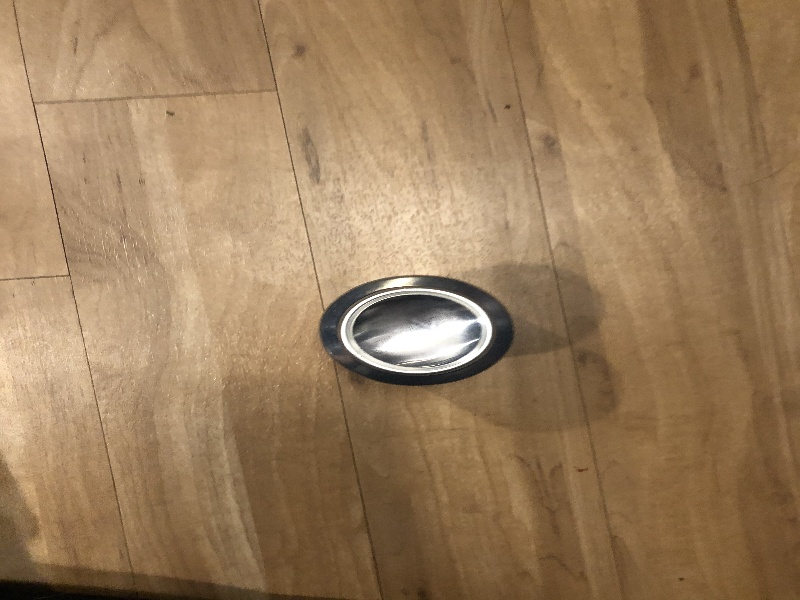metal: (317, 270, 519, 385)
